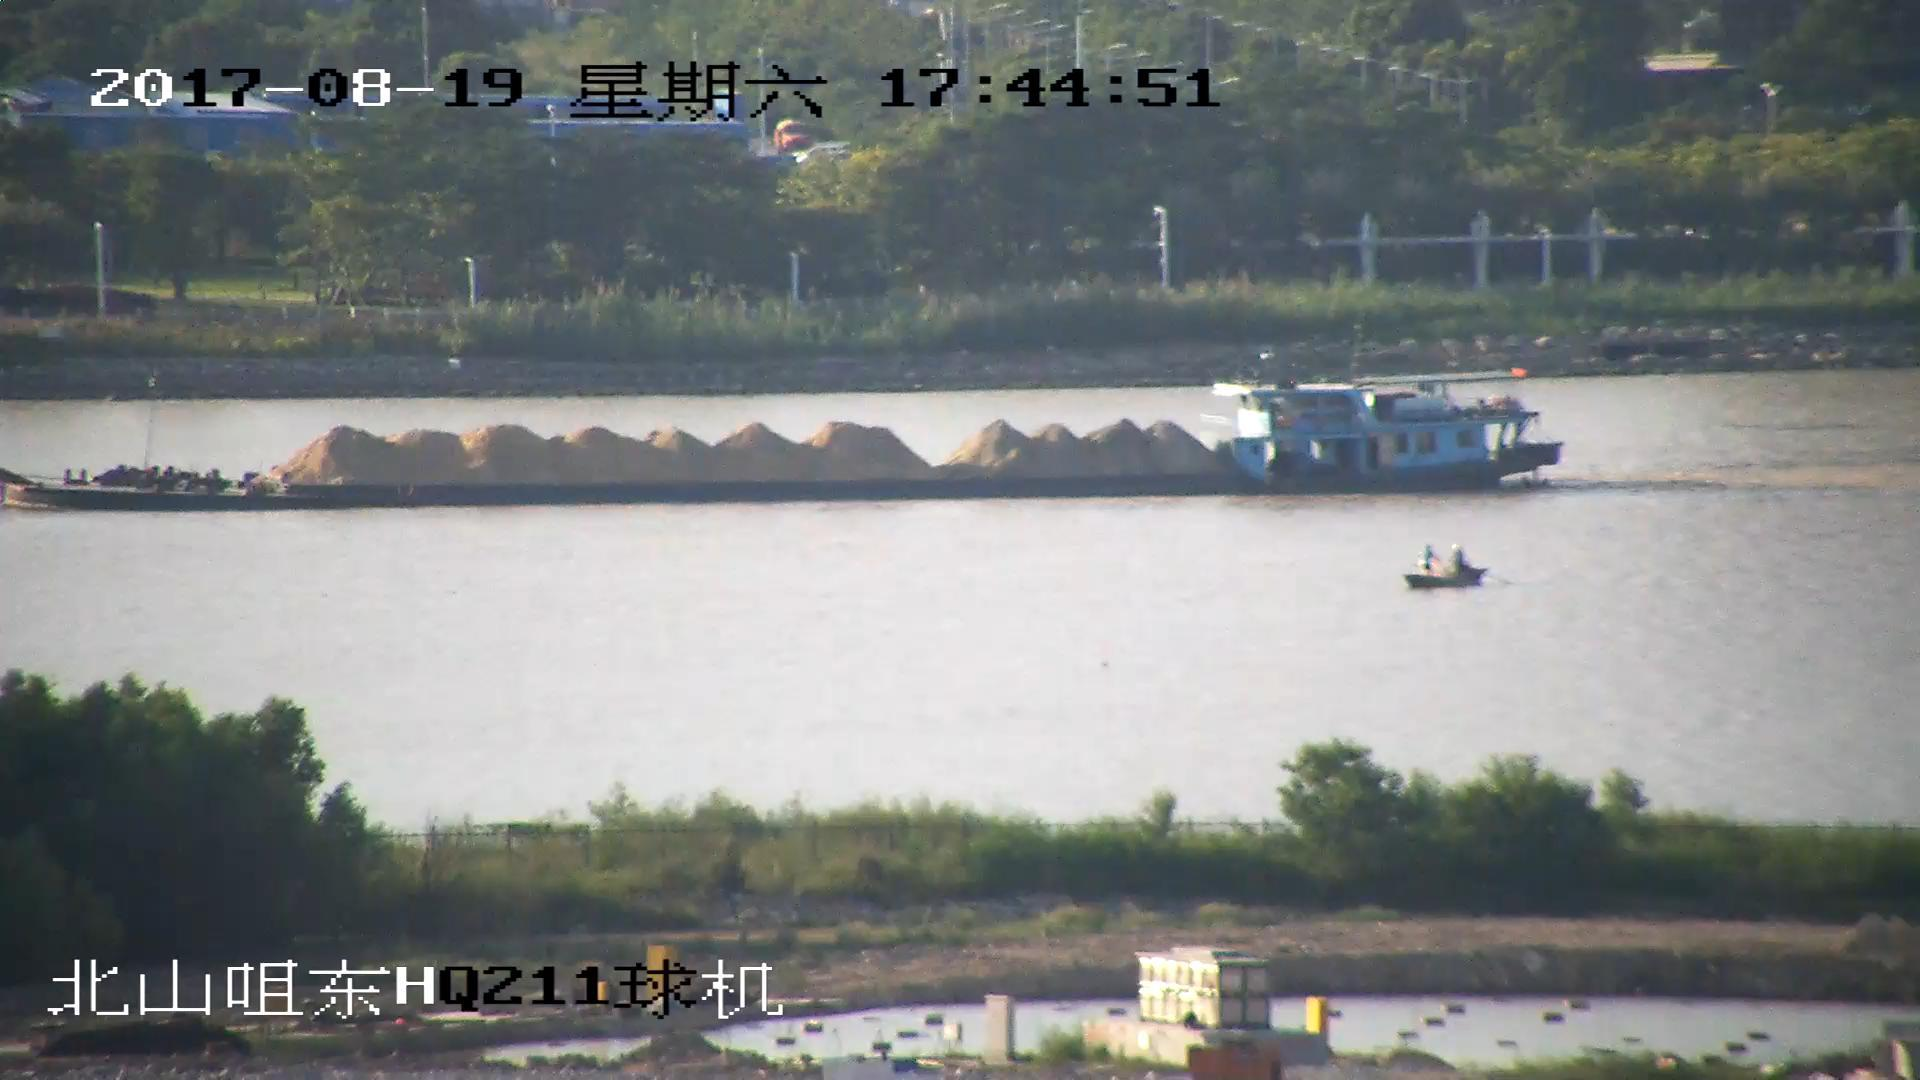Ship: (3, 342, 1569, 512), (1400, 539, 1489, 597)
